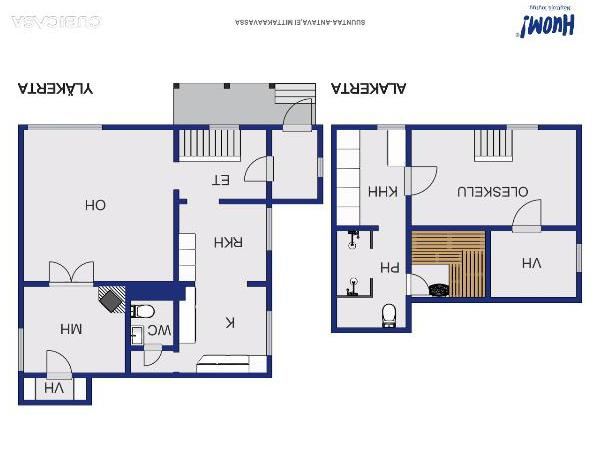door: (400, 163, 441, 198), (278, 95, 314, 134), (510, 196, 544, 235), (242, 152, 278, 186), (42, 350, 76, 382), (402, 271, 432, 299), (46, 260, 73, 290), (71, 260, 97, 289), (140, 342, 166, 370)
window: (23, 120, 106, 133), (260, 204, 276, 254), (13, 325, 29, 375), (262, 308, 276, 358), (502, 120, 542, 136), (373, 119, 407, 135), (573, 239, 585, 276), (207, 120, 242, 132), (314, 156, 327, 178)
